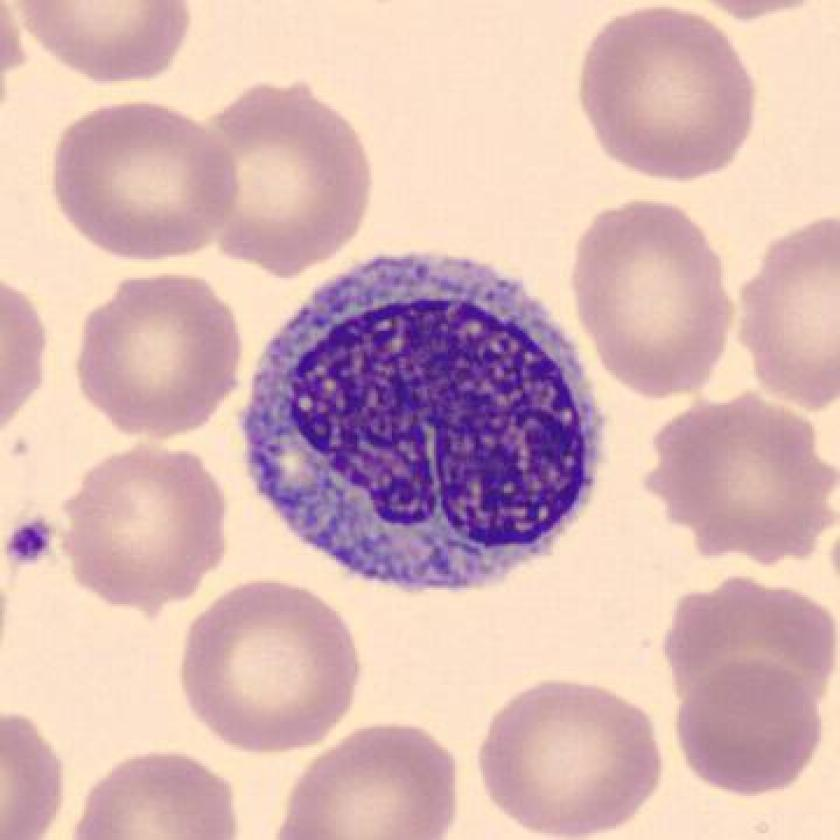monocyte: (218, 223, 631, 619)
